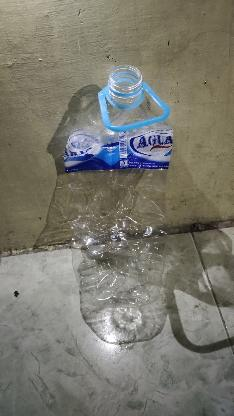Plastic Bottle: (63, 65, 174, 345)
